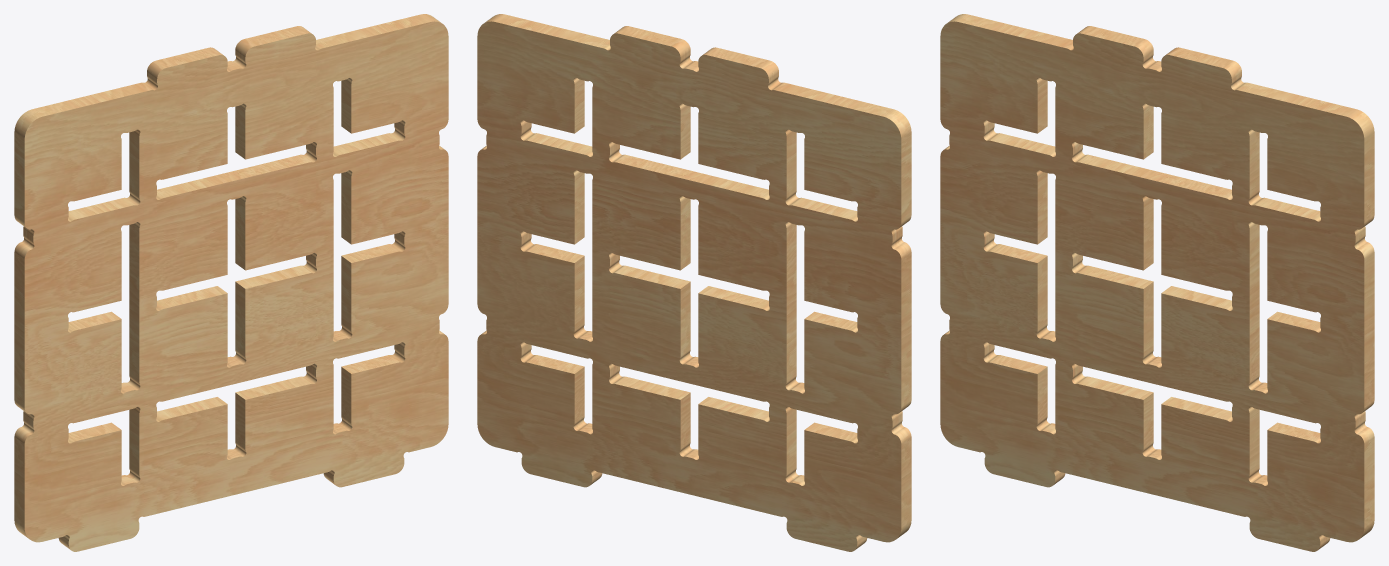
The model's file is suru_universal_madeira.gltf.
The picture shows the model from 3 angles, left to right: view 1: azimuth 30°, elevation 25°; view 2: azimuth 150°, elevation 25°; view 3: azimuth 330°, elevation 25°; orthographic projection.
Visible parts, largest first — view 1: Object_1_Madeira; view 2: Object_1_Madeira; view 3: Object_1_Madeira.
Part boxes in pixels (bbox=[...]): Object_1_Madeira: bbox=[14, 14, 448, 551]; Object_1_Madeira: bbox=[477, 14, 911, 551]; Object_1_Madeira: bbox=[940, 14, 1374, 551].
Bounding box in the file's own units: 0.36 × 0.375 × 0.015.
Materials: 1 (1 with a texture image).
